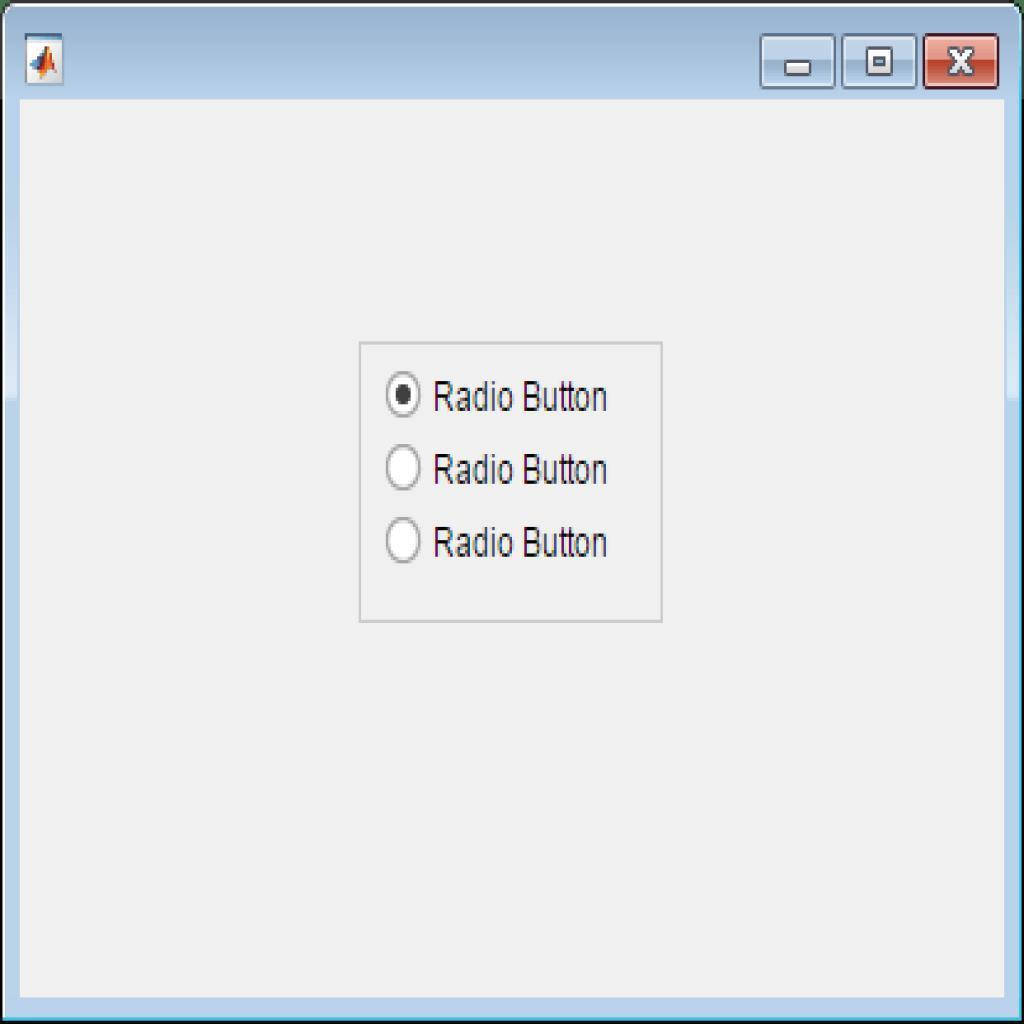label: (425, 520, 614, 562), (433, 445, 611, 489), (434, 379, 610, 419)
radio: (383, 439, 423, 489), (384, 515, 422, 566), (388, 370, 422, 415)
